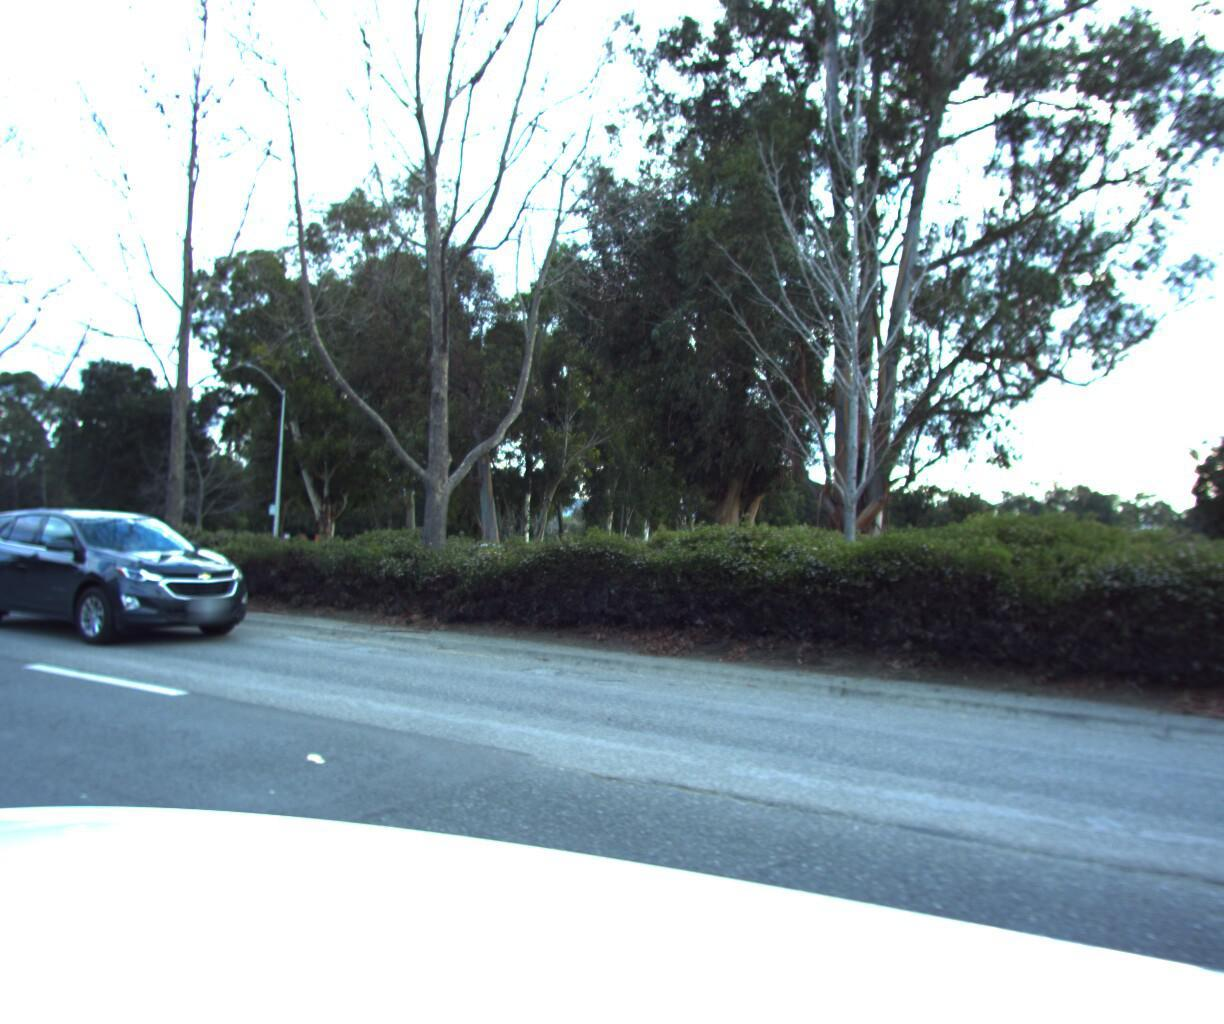car: (0, 505, 276, 655)
